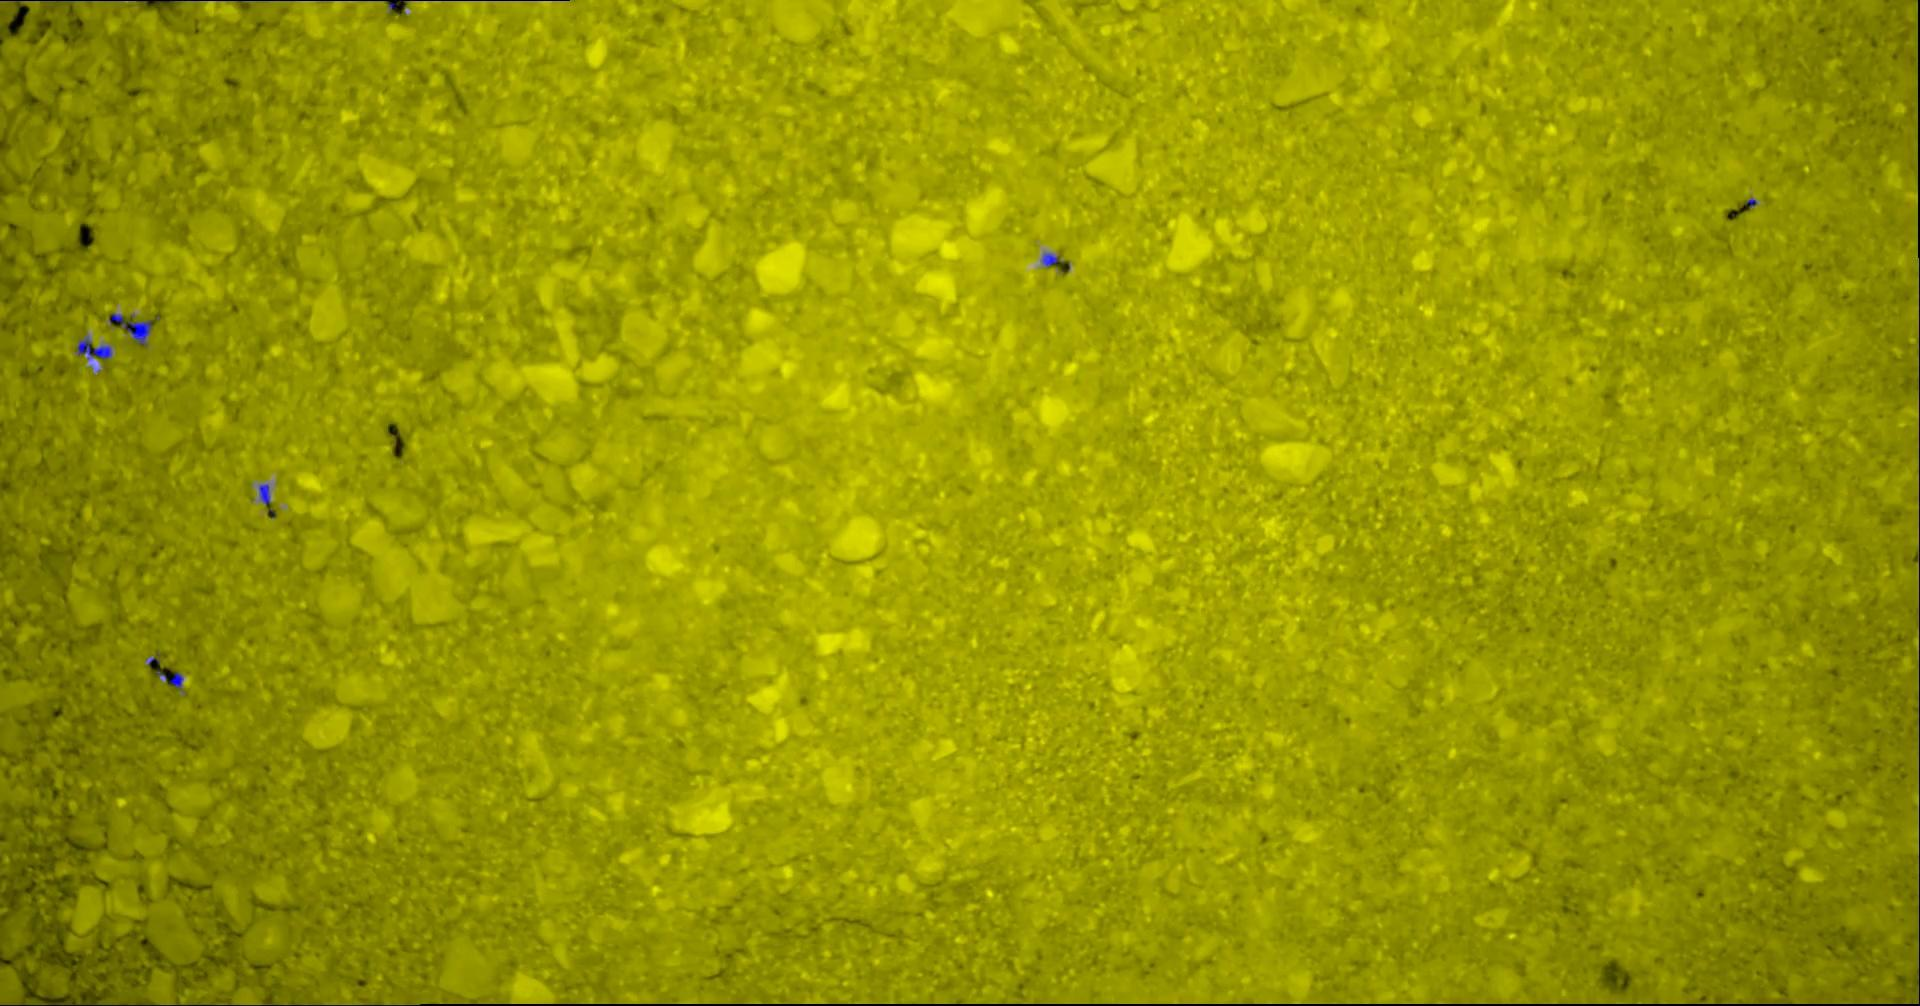ant: (108, 312, 151, 344), (76, 337, 110, 359), (155, 669, 183, 690), (1041, 251, 1060, 267), (258, 483, 269, 504)
